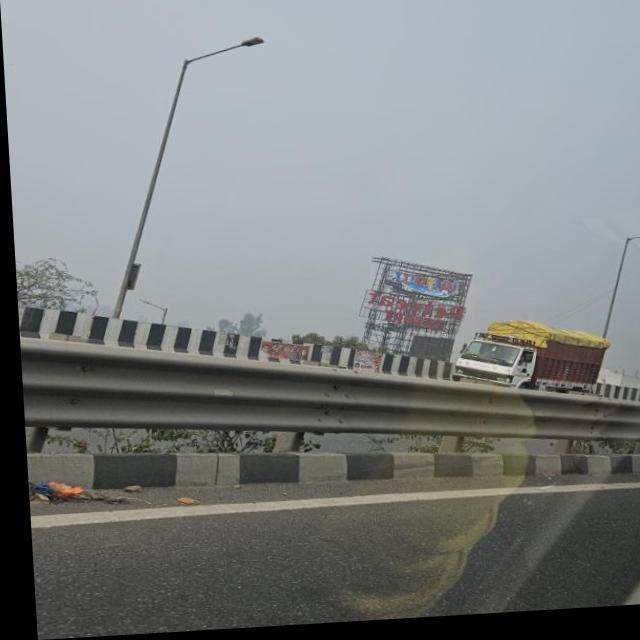covered: (434, 317, 610, 392)
